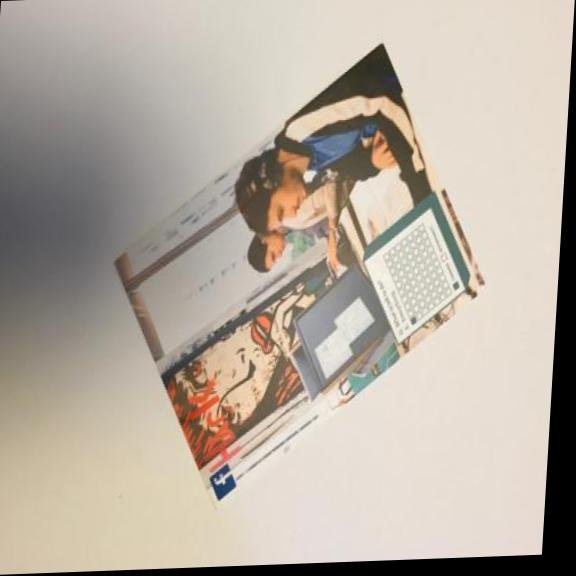Kertas: (94, 32, 505, 521)
